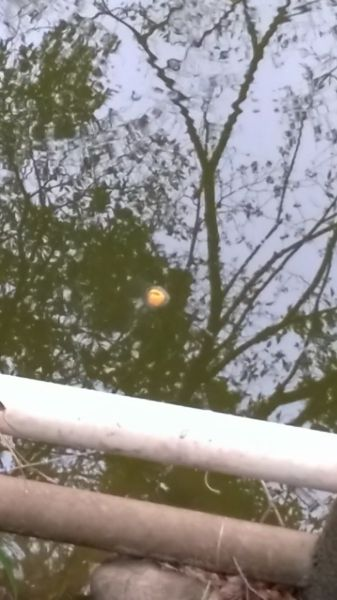eggs: (145, 284, 168, 310)
